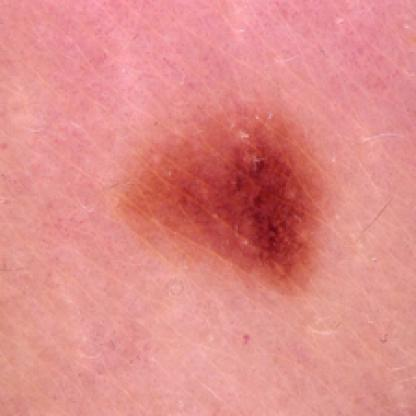benign: (156, 113, 319, 277)
